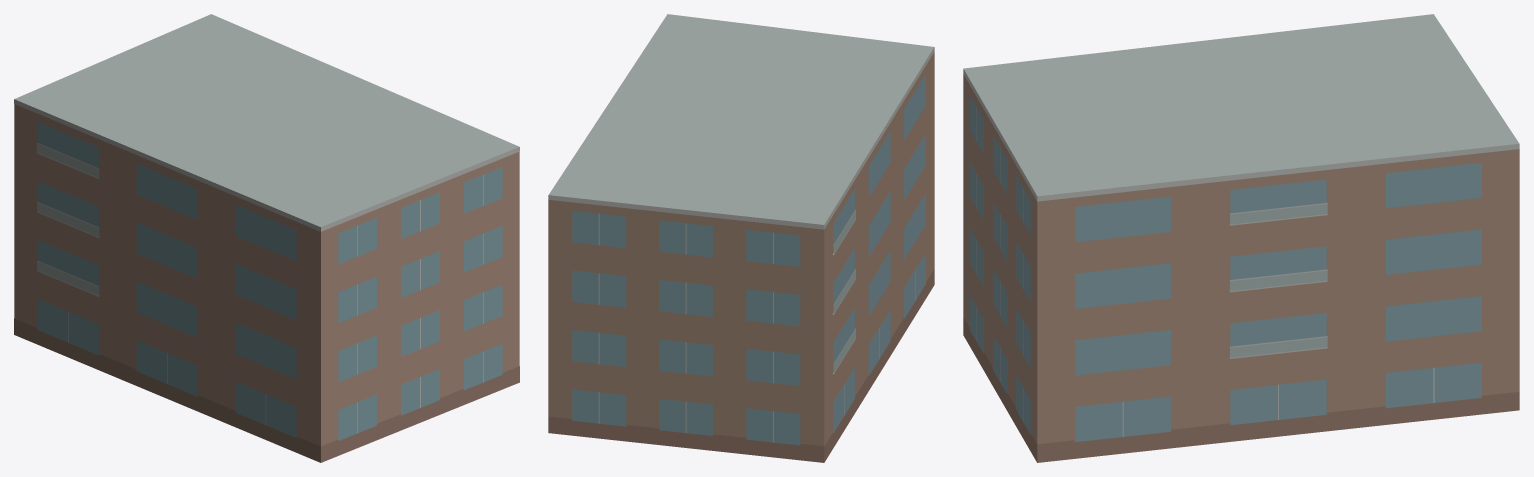
File: survey-upis-32648756.glb
3 renders of one model, left to right at view 1: azimuth 30°, elevation 25°; view 2: azimuth 150°, elevation 25°; view 3: azimuth 270°, elevation 25°, orthographic. The views are drawn at different scales.
Visible parts, largest first — view 1: survey-upis-32648756.tmp; view 2: survey-upis-32648756.tmp; view 3: survey-upis-32648756.tmp.
Boxes of the visible parts, bbox=[...] form: survey-upis-32648756.tmp: bbox=[14, 14, 519, 462]; survey-upis-32648756.tmp: bbox=[548, 14, 934, 462]; survey-upis-32648756.tmp: bbox=[963, 14, 1519, 462].
Bounding box in the file's own units: 18.21 × 12.4 × 23.46.
